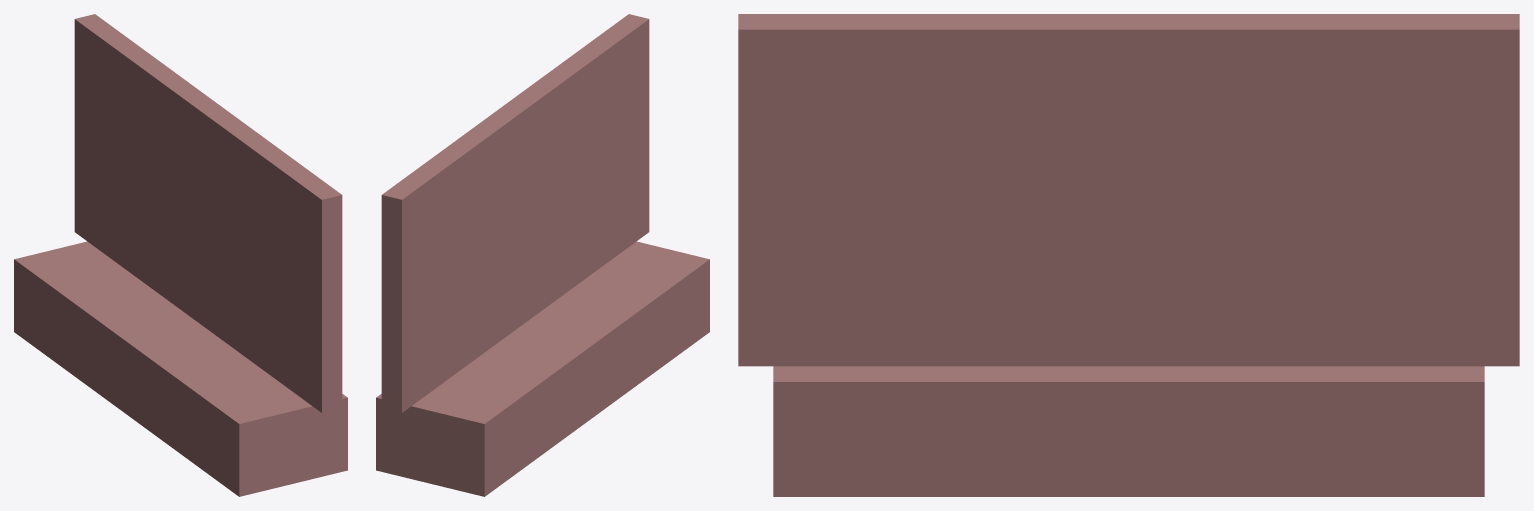
The picture shows the model from 3 angles, left to right: view 1: azimuth 30°, elevation 25°; view 2: azimuth 150°, elevation 25°; view 3: azimuth 270°, elevation 25°; orthographic projection. The views are drawn at different scales.
Parts seen in each view (by area): view 1: tv; view 2: tv; view 3: tv.
Part boxes in pixels (x1,y1,x2,y2): tv: (14, 14, 347, 496); tv: (376, 14, 709, 496); tv: (738, 14, 1519, 496).
Bounding box in the file's own units: 462 × 1169 × 1821.
